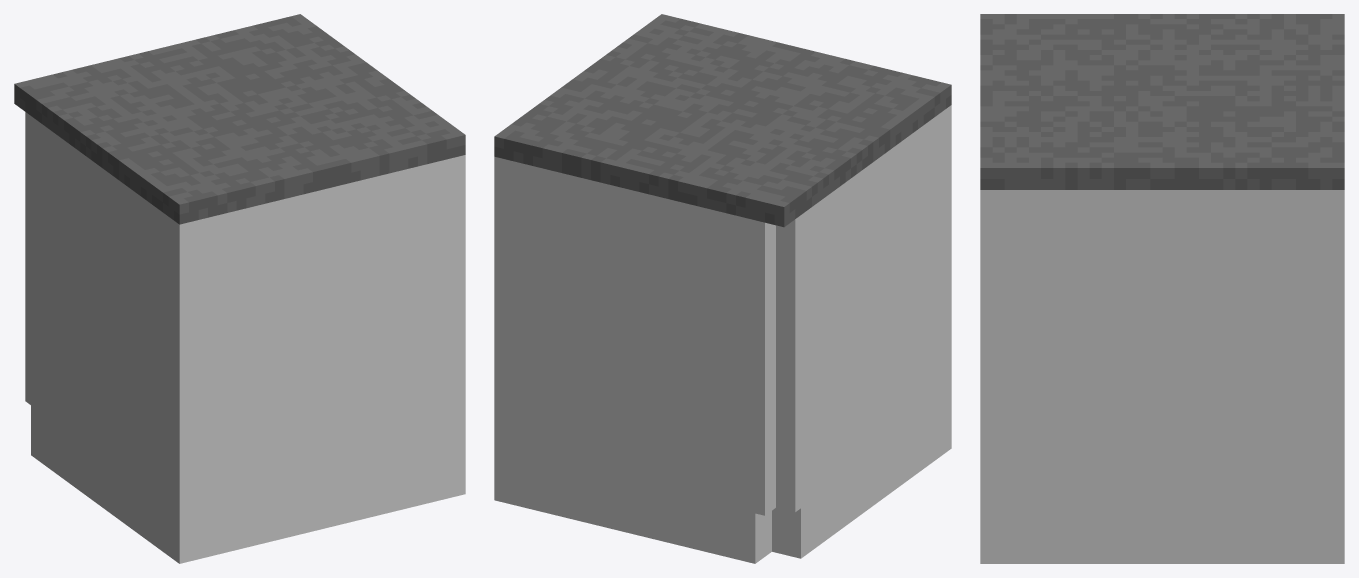
Rendered from countertop_corner_03.dae.
The picture shows the model from 3 angles, left to right: view 1: azimuth 30°, elevation 25°; view 2: azimuth 150°, elevation 25°; view 3: azimuth 270°, elevation 25°; orthographic projection. The views are drawn at different scales.
Parts seen in each view (by area): view 1: Untitled; view 2: Untitled; view 3: Untitled.
Boxes of the visible parts, left/top/right/bottom form: Untitled: left=14, top=14, right=465, bottom=563; Untitled: left=494, top=14, right=951, bottom=563; Untitled: left=980, top=14, right=1344, bottom=563.
Bounding box in the file's own units: 0.9 × 0.9 × 1.08.
1 material, 1 textured.
